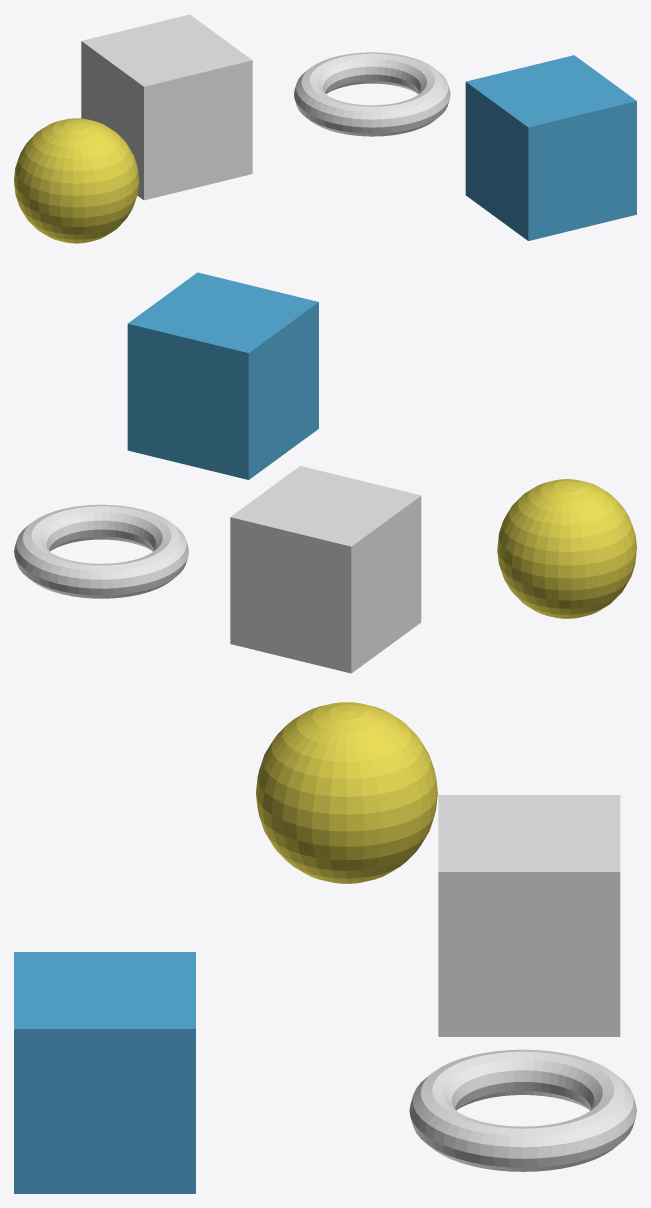
Rendered from cub.gltf.
3 views of the same model, one above another, from view 1: azimuth 30°, elevation 25°; view 2: azimuth 150°, elevation 25°; view 3: azimuth 270°, elevation 25° (orthographic). The views are drawn at different scales.
Visible parts, largest first — view 1: Cube.001, Cube, Sphere, Torus; view 2: Cube, Cube.001, Sphere, Torus; view 3: Cube, Cube.001, Sphere, Torus.
Part boxes in pixels (bbox=[...]): Cube.001: bbox=[465, 55, 636, 240]; Cube: bbox=[81, 14, 252, 200]; Sphere: bbox=[14, 118, 138, 243]; Torus: bbox=[294, 52, 450, 136]; Cube: bbox=[230, 466, 421, 673]; Cube.001: bbox=[127, 272, 318, 479]; Sphere: bbox=[497, 479, 636, 618]; Torus: bbox=[14, 504, 188, 598]; Cube: bbox=[438, 795, 620, 1036]; Cube.001: bbox=[14, 952, 195, 1193]; Sphere: bbox=[256, 702, 437, 883]; Torus: bbox=[409, 1049, 636, 1171].
Size of what is drawn, in the model's own units: 9.21 by 2.18 by 6.84.
